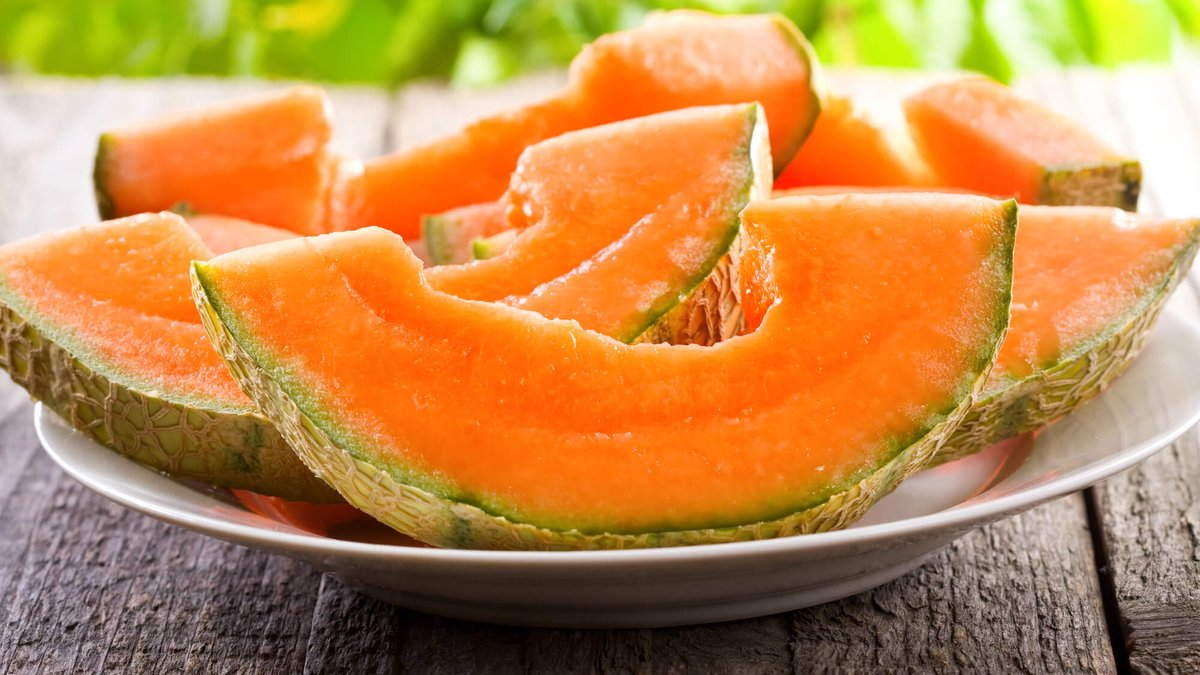Melon: (229, 183, 1012, 563), (54, 88, 762, 439)
